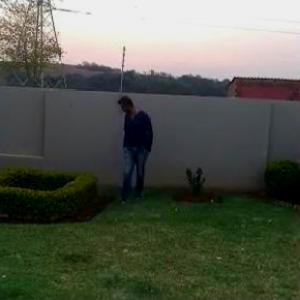follow: (119, 84, 158, 214)
